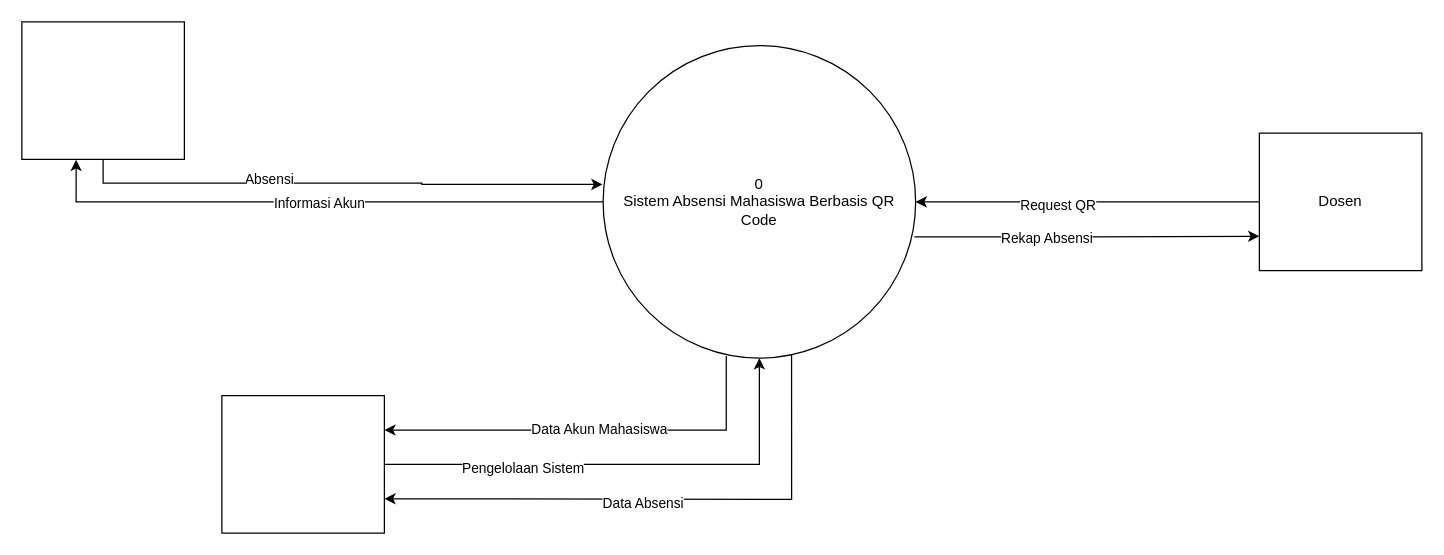
Image size: 1444x555. Some labels were removed from this diagram. Here are the shapes that lost their labels. From the top down, the centre of each, then its label:
pixel 102 90: Mahasiswa
pixel 302 463: Admin
